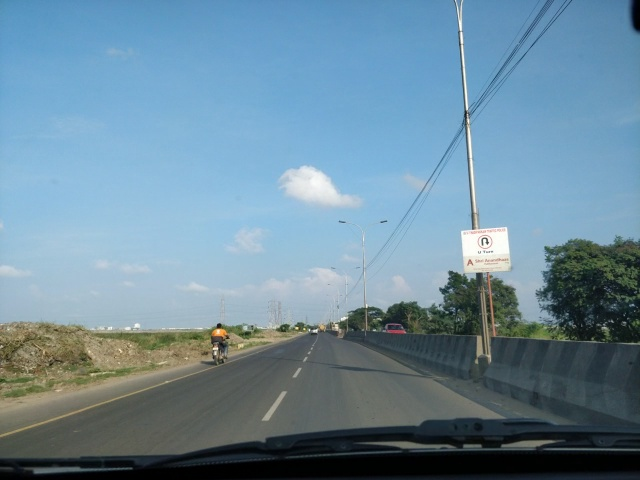car: (378, 321, 410, 334), (308, 324, 321, 337)
motorbike: (209, 323, 232, 366)
